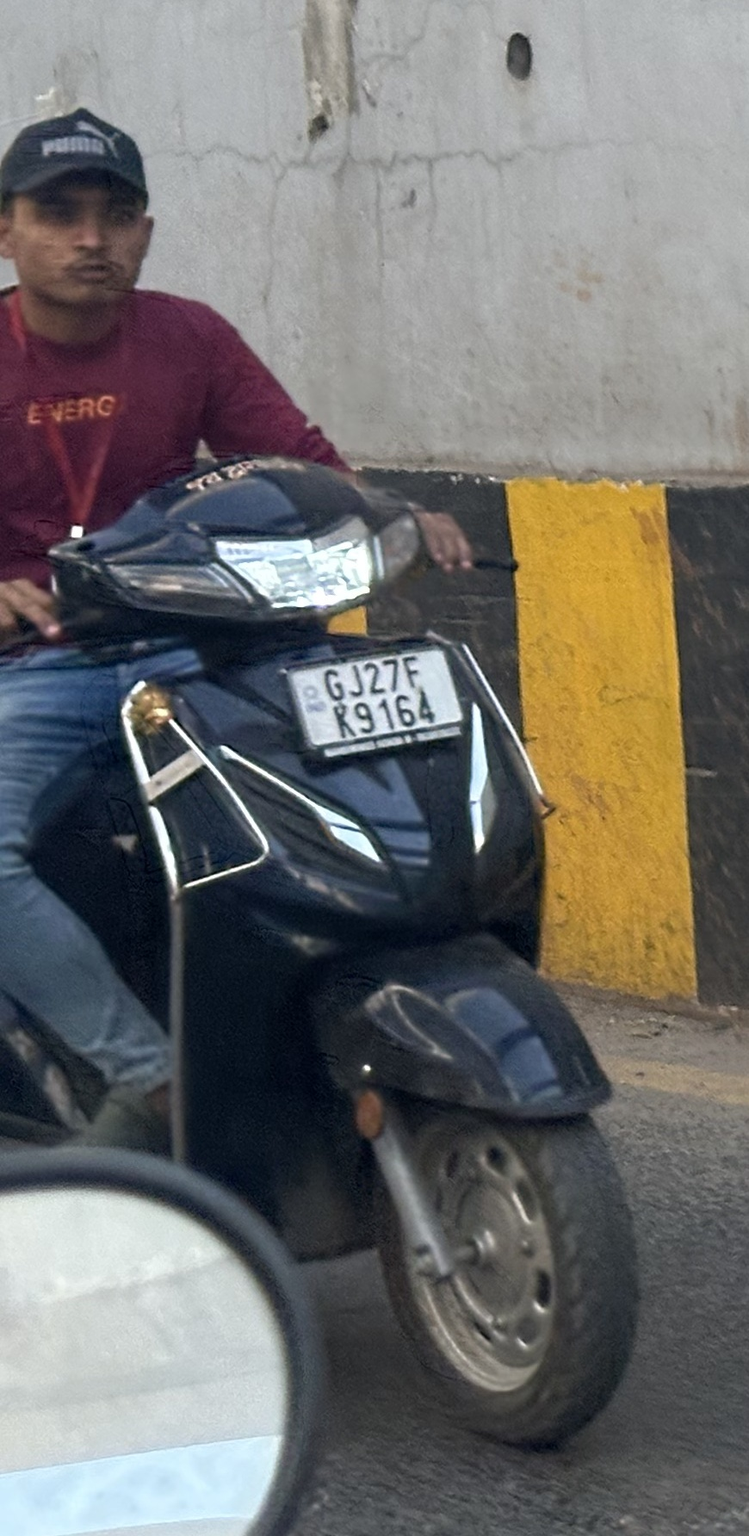Helmet: (0, 94, 183, 336)
NoHelmet: (3, 86, 667, 1469)
